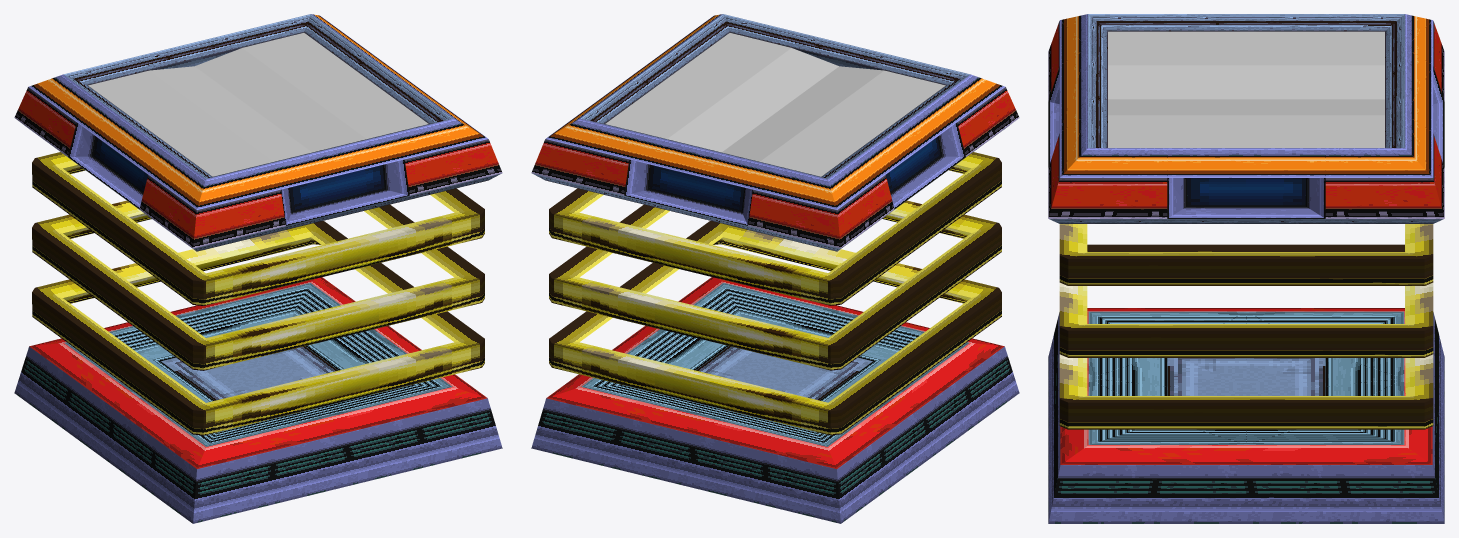
Rendered from case.obj.
3 views of the same model, side by side, from view 1: azimuth 30°, elevation 25°; view 2: azimuth 150°, elevation 25°; view 3: azimuth 270°, elevation 25° (orthographic). The views are drawn at different scales.
Parts seen in each view (by area): view 1: Object_8, Object_7, Object_1, Object_2, Object_3, Object_5, Object_6, Object_4; view 2: Object_8, Object_7, Object_1, Object_2, Object_3, Object_5, Object_6, Object_4; view 3: Object_8, Object_7, Object_6, Object_1, Object_2, Object_3, Object_5, Object_4.
Boxes of the visible parts, x1,y1,x2,y2 form: Object_8: (14,277,502,523); Object_7: (14,14,502,251); Object_1: (32,221,484,435); Object_2: (32,200,484,370); Object_3: (32,152,484,305); Object_5: (195,33,428,152); Object_6: (88,66,311,176); Object_4: (93,137,384,211); Object_8: (531,277,1019,523); Object_7: (531,14,1019,251); Object_1: (549,221,1001,435); Object_2: (549,200,1001,370); Object_3: (549,152,1001,305); Object_5: (605,33,838,152); Object_6: (722,66,945,176); Object_4: (649,137,940,211); Object_8: (1048,308,1444,523); Object_7: (1048,14,1444,223); Object_6: (1108,31,1384,99); Object_1: (1059,244,1433,429); Object_2: (1059,224,1433,357); Object_3: (1059,224,1433,285); Object_5: (1108,99,1384,147); Object_4: (1187,178,1305,206).
Size of the model in its own units: 20 by 20.02 by 20.
